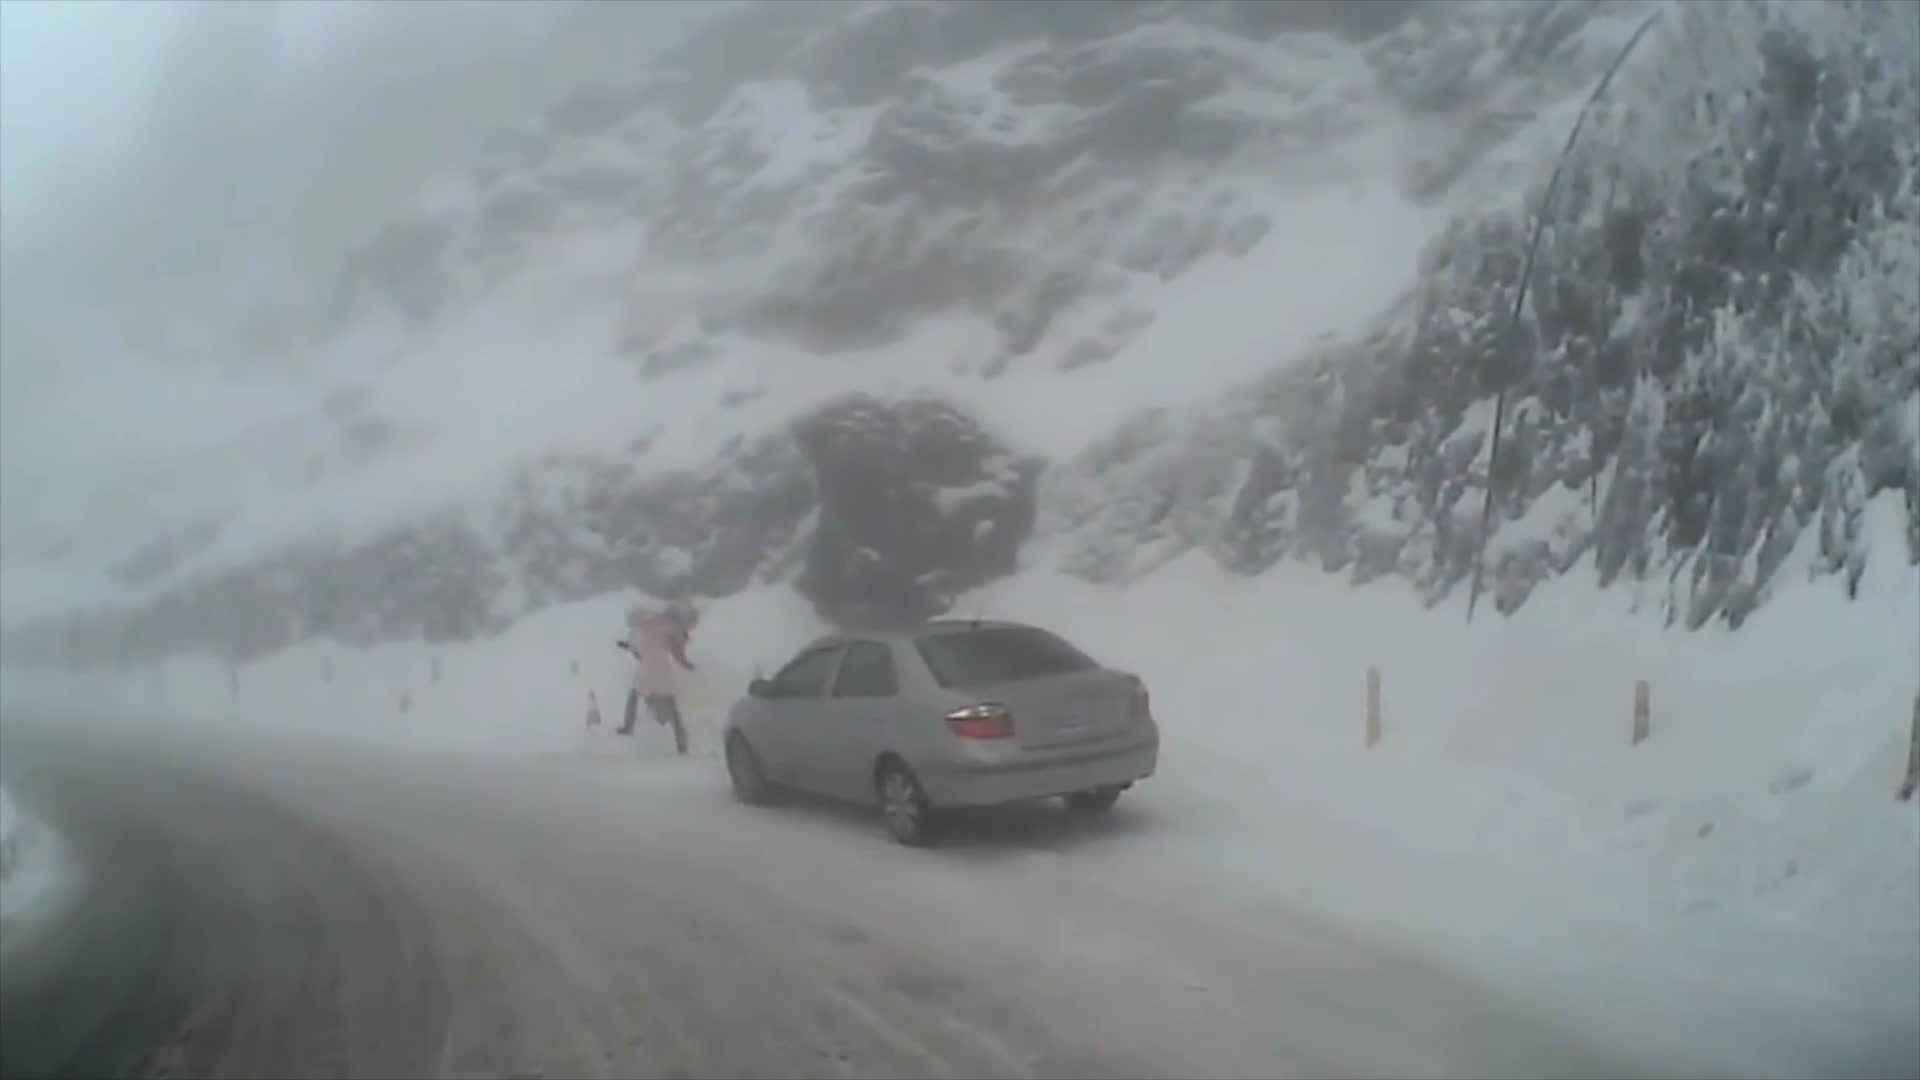pedestrian: (608, 593, 694, 755)
vehicle: (719, 619, 1158, 848)
